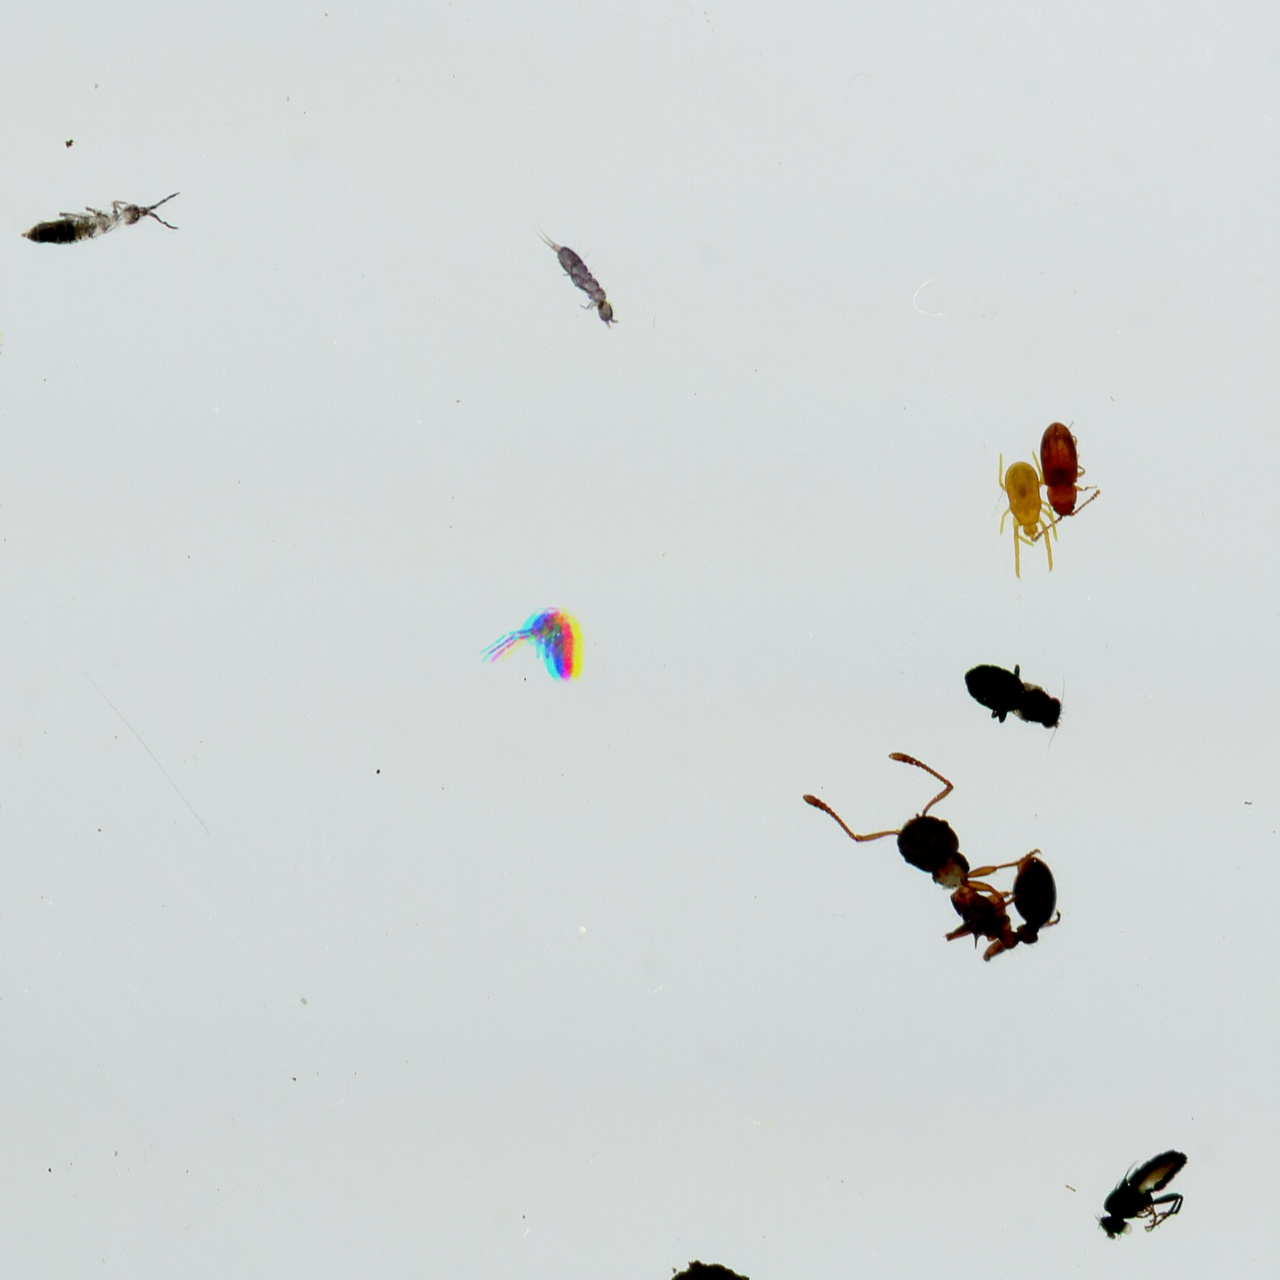arthropod: (799, 744, 1067, 966), (1075, 1122, 1219, 1274), (523, 210, 638, 349), (2, 186, 189, 259), (959, 654, 1078, 761), (990, 448, 1062, 580), (478, 604, 591, 687), (1030, 415, 1102, 540), (0, 307, 11, 368)
